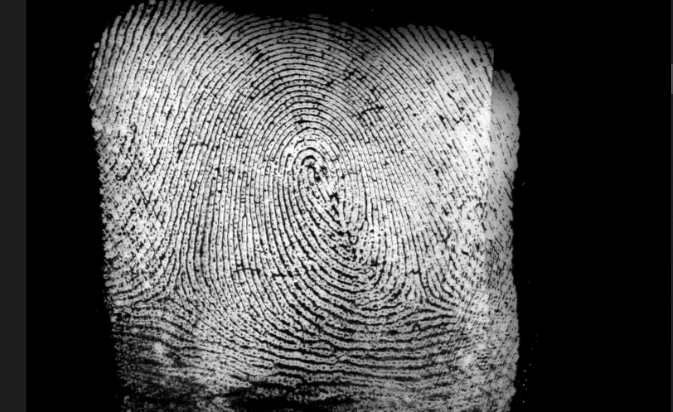nucelo: (295, 148, 340, 209)
verticilo: (148, 270, 185, 311), (409, 288, 441, 315)
